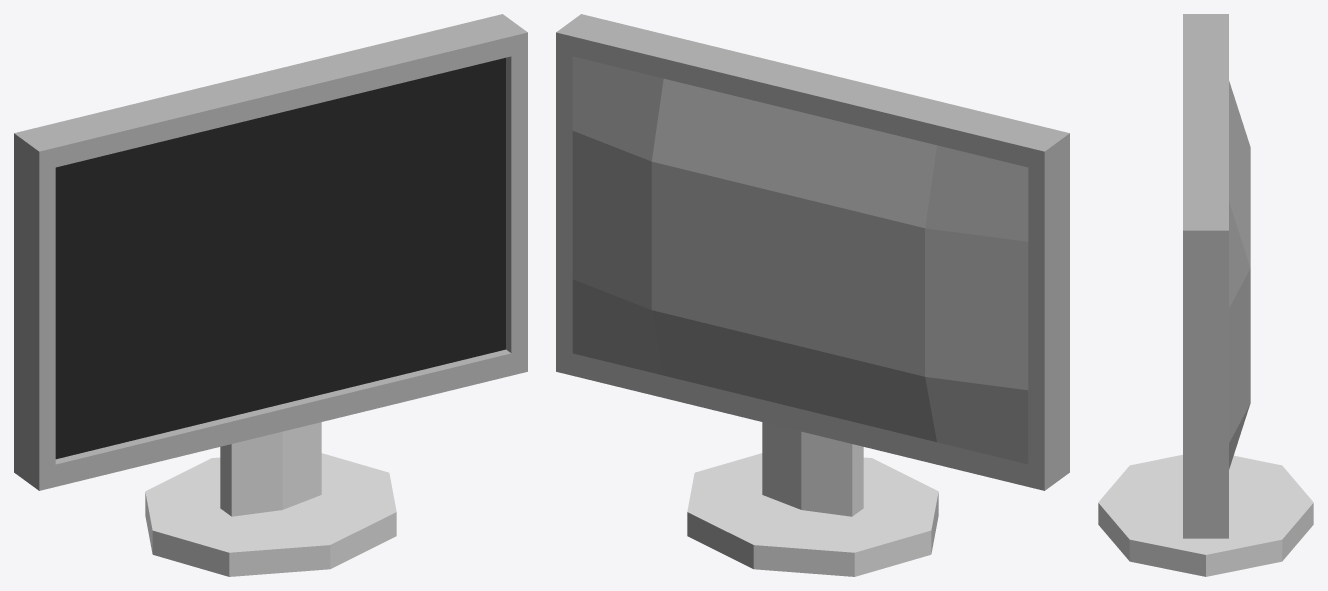
The model's file is PCecran.fbx.
3 renders of one model, left to right at view 1: azimuth 30°, elevation 25°; view 2: azimuth 150°, elevation 25°; view 3: azimuth 270°, elevation 25°, orthographic. The views are drawn at different scales.
Parts seen in each view (by area): view 1: Cube, Cylinder.001, Cylinder; view 2: Cube, Cylinder.001, Cylinder; view 3: Cube, Cylinder.001.
Boxes of the visible parts, x1,y1,x2,y2 form: Cube: (14, 14, 527, 490); Cylinder.001: (145, 453, 396, 576); Cylinder: (220, 422, 321, 516); Cube: (556, 14, 1069, 490); Cylinder.001: (687, 453, 938, 576); Cylinder: (762, 422, 863, 516); Cube: (1183, 14, 1250, 538); Cylinder.001: (1098, 454, 1313, 576).
Bounding box in the file's own units: 301 × 261 × 127.
